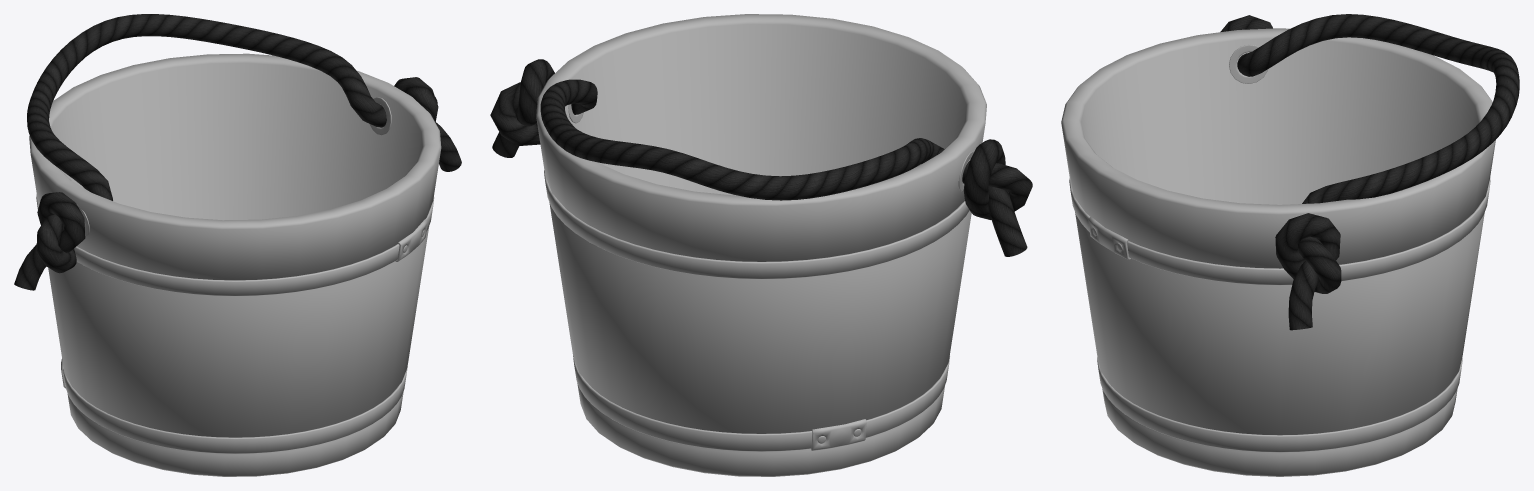
3 renders of one model, left to right at view 1: azimuth 30°, elevation 25°; view 2: azimuth 150°, elevation 25°; view 3: azimuth 270°, elevation 25°, orthographic. The views are drawn at different scales.
Visible parts, largest first — view 1: g polymsh1, g polymsh_extracted1; view 2: g polymsh1, g polymsh_extracted1; view 3: g polymsh1, g polymsh_extracted1.
Part boxes in pixels (left/top/right/bottom): g polymsh1: left=29, top=53, right=441, bottom=476; g polymsh_extracted1: left=14, top=14, right=461, bottom=290; g polymsh1: left=536, top=14, right=986, bottom=476; g polymsh_extracted1: left=490, top=59, right=1032, bottom=256; g polymsh1: left=1061, top=28, right=1495, bottom=476; g polymsh_extracted1: left=1220, top=14, right=1519, bottom=330.
Bounding box in the file's own units: 2 × 1.29 × 1.61.
